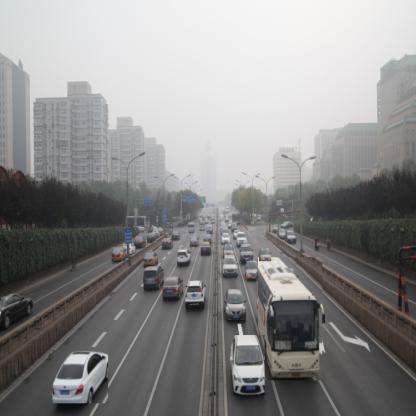bus: (259, 258, 324, 382), (126, 217, 151, 229), (232, 211, 242, 225)
car: (53, 351, 109, 405), (231, 336, 266, 397), (1, 295, 35, 332), (225, 290, 247, 322), (186, 280, 209, 310), (144, 266, 165, 292), (164, 277, 185, 301), (223, 256, 240, 278), (178, 249, 191, 268), (144, 252, 159, 268), (241, 246, 255, 263), (112, 248, 126, 263), (260, 248, 273, 263), (247, 262, 257, 281), (238, 233, 248, 249), (288, 231, 299, 245), (124, 244, 136, 256), (202, 245, 213, 258), (136, 236, 146, 250), (225, 243, 235, 257), (223, 232, 232, 246), (162, 240, 173, 251), (282, 220, 294, 229), (149, 234, 158, 245), (174, 229, 182, 241), (191, 237, 200, 246), (280, 229, 287, 240), (189, 223, 196, 234), (200, 223, 206, 233), (204, 236, 212, 243), (233, 225, 240, 232), (207, 226, 214, 233), (274, 226, 279, 235)
motorbike: (316, 237, 322, 252), (328, 237, 333, 252)
